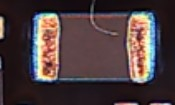COMP: (21, 10, 166, 90)
STAN: (85, 1, 122, 38), (87, 1, 102, 31), (92, 23, 119, 36)
